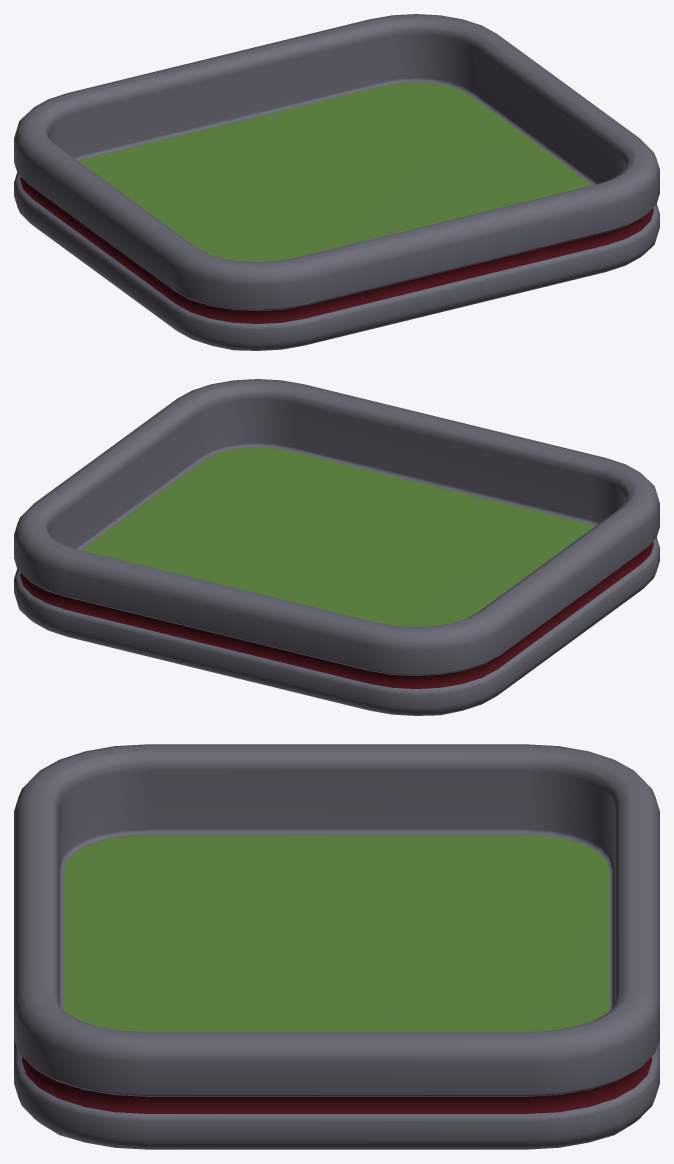
The model's file is SM_Balcony_01.fbx.
3 views of the same model, one above another, from view 1: azimuth 30°, elevation 25°; view 2: azimuth 150°, elevation 25°; view 3: azimuth 270°, elevation 25° (orthographic). The views are drawn at different scales.
Visible parts, largest first — view 1: SM_Balcony_01; view 2: SM_Balcony_01; view 3: SM_Balcony_01.
Boxes of the visible parts, x1,y1,x2,y2 form: SM_Balcony_01: (14,14,659,350); SM_Balcony_01: (14,379,659,715); SM_Balcony_01: (14,744,659,1149).
Size of the model in its own units: 1592 by 268 by 1412.
